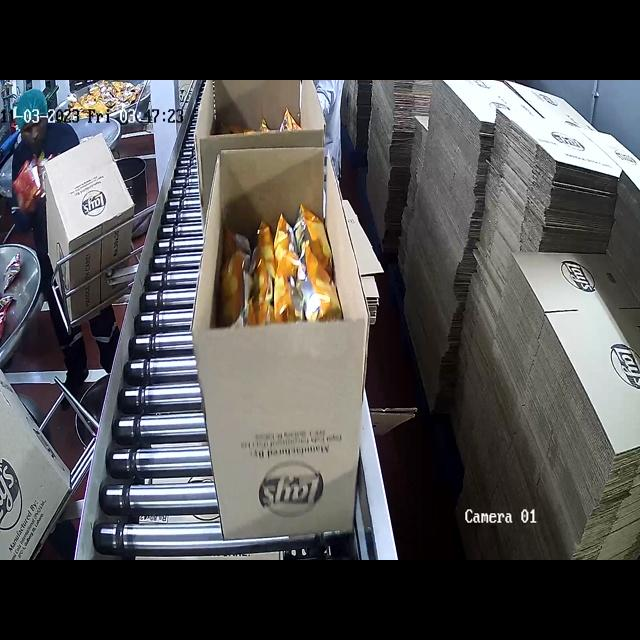cheese: (220, 223, 346, 323)
